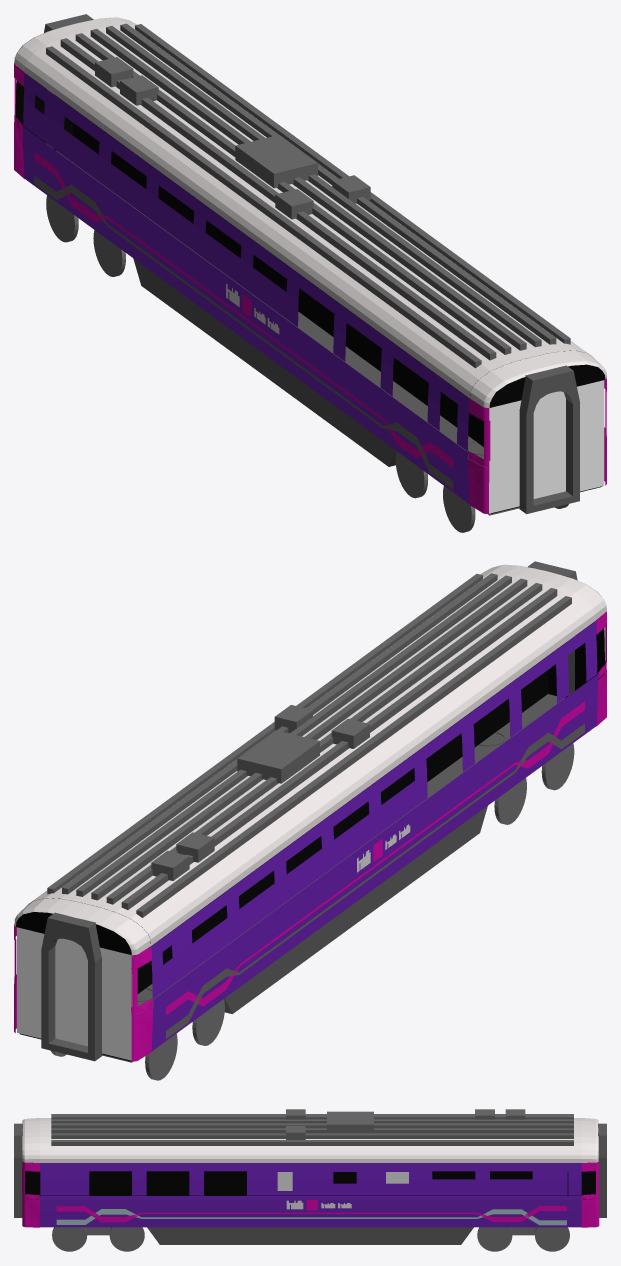
The model's file is br-mk3-trfb-fgw3.dae.
3 renders of one model, top to bottom at view 1: azimuth 30°, elevation 25°; view 2: azimuth 150°, elevation 25°; view 3: azimuth 270°, elevation 25°, orthographic. The views are drawn at different scales.
Visible parts, largest first — view 1: Suzanne_001, Plane_007, Plane_001, Plane_173, Plane_111, Mk3-Trfb-Roof-Equ_000, Cube, Cube_011, Tube_003, Cube_008, Cube_010, Cube_004 (+17 smaller); view 2: Suzanne_001, Plane_007, Plane_100, Plane_173, Mk3-Trfb-Roof-Equ_000, Plane_111, Cube, Cube_011, Tube_002, Cube_008, Cube_010, Cube_004 (+17 smaller); view 3: Plane_134, Suzanne_001, Cube, Plane_111, Plane_172, Cube_003, Cube_002, Cube_008, Cube_004, Plane_135, Plane_136, Cube_009 (+33 smaller).
Boxes of the visible parts, left/top/right/bottom form: Suzanne_001: left=24, top=24, right=592, bottom=398; Plane_007: left=23, top=140, right=469, bottom=503; Plane_001: left=489, top=380, right=604, bottom=513; Plane_173: left=32, top=107, right=299, bottom=326; Plane_111: left=73, top=108, right=483, bottom=446; Mk3-Trfb-Roof-Equ_000: left=95, top=57, right=370, bottom=219; Cube: left=133, top=258, right=396, bottom=466; Cube_011: left=46, top=46, right=481, bottom=368; Tube_003: left=519, top=365, right=579, bottom=514; Cube_008: left=90, top=29, right=526, bottom=350; Cube_010: left=60, top=38, right=496, bottom=360; Cube_004: left=106, top=26, right=541, bottom=347; Suzanne_001: left=28, top=572, right=595, bottom=945; Plane_007: left=151, top=687, right=597, bottom=1051; Plane_100: left=17, top=927, right=132, bottom=1060; Plane_173: left=162, top=759, right=427, bottom=991; Mk3-Trfb-Roof-Equ_000: left=151, top=705, right=369, bottom=880; Plane_111: left=134, top=656, right=547, bottom=993; Cube: left=224, top=806, right=487, bottom=1013; Cube_011: left=136, top=596, right=571, bottom=917; Tube_002: left=41, top=912, right=102, bottom=1061; Cube_008: left=91, top=578, right=527, bottom=900; Cube_010: left=121, top=588, right=557, bottom=909; Cube_004: left=76, top=575, right=511, bottom=896; Plane_134: left=40, top=1203, right=581, bottom=1227; Suzanne_001: left=40, top=1118, right=581, bottom=1162; Cube: left=147, top=1227, right=473, bottom=1244; Plane_111: left=25, top=1162, right=595, bottom=1199; Plane_172: left=261, top=1171, right=532, bottom=1195; Cube_003: left=51, top=1140, right=573, bottom=1145; Cube_002: left=51, top=1133, right=573, bottom=1138; Cube_008: left=51, top=1123, right=573, bottom=1128; Cube_004: left=51, top=1128, right=573, bottom=1133; Plane_135: left=40, top=1163, right=581, bottom=1167; Plane_136: left=40, top=1167, right=581, bottom=1171; Cube_009: left=51, top=1119, right=573, bottom=1123.
Bounding box in the file's own units: 2.09 × 13.39 × 2.96.
